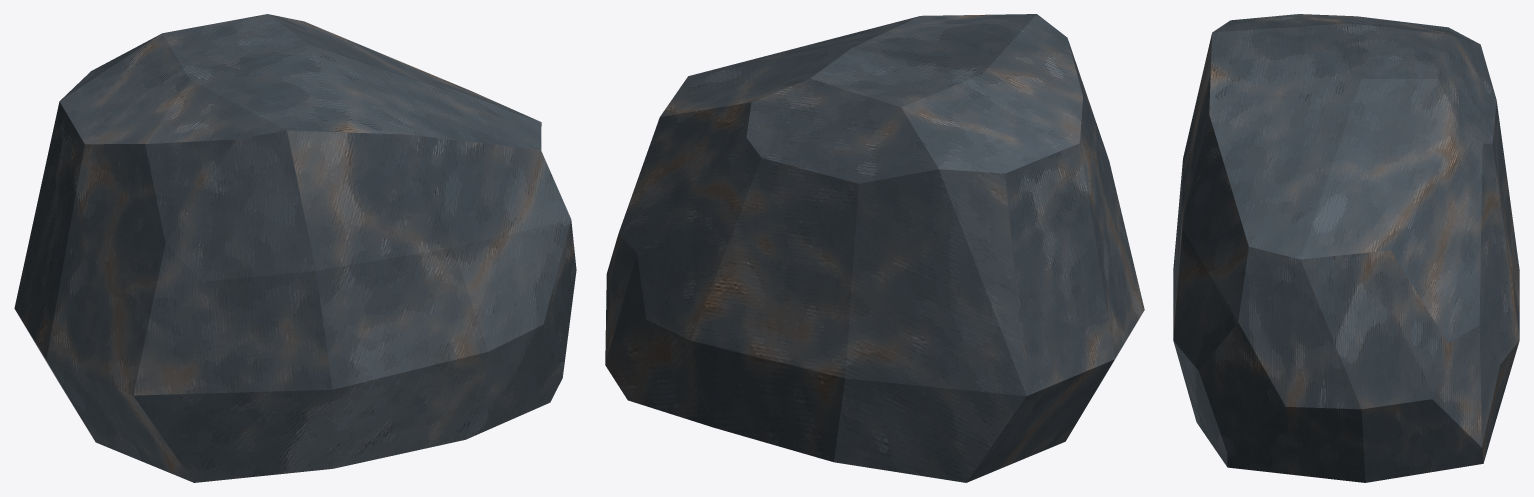
The model's file is 장애물_바위중 2.fbx.
The picture shows the model from 3 angles, left to right: view 1: azimuth 30°, elevation 25°; view 2: azimuth 150°, elevation 25°; view 3: azimuth 270°, elevation 25°; orthographic projection. The views are drawn at different scales.
Parts seen in each view (by area): view 1: 바위중 2; view 2: 바위중 2; view 3: 바위중 2.
Part boxes in pixels (box(x1,y1,x2,y2)): 바위중 2: box(14, 14, 576, 482); 바위중 2: box(605, 14, 1144, 482); 바위중 2: box(1173, 14, 1519, 482).
Bounding box in the file's own units: 149 × 99.33 × 99.33.
